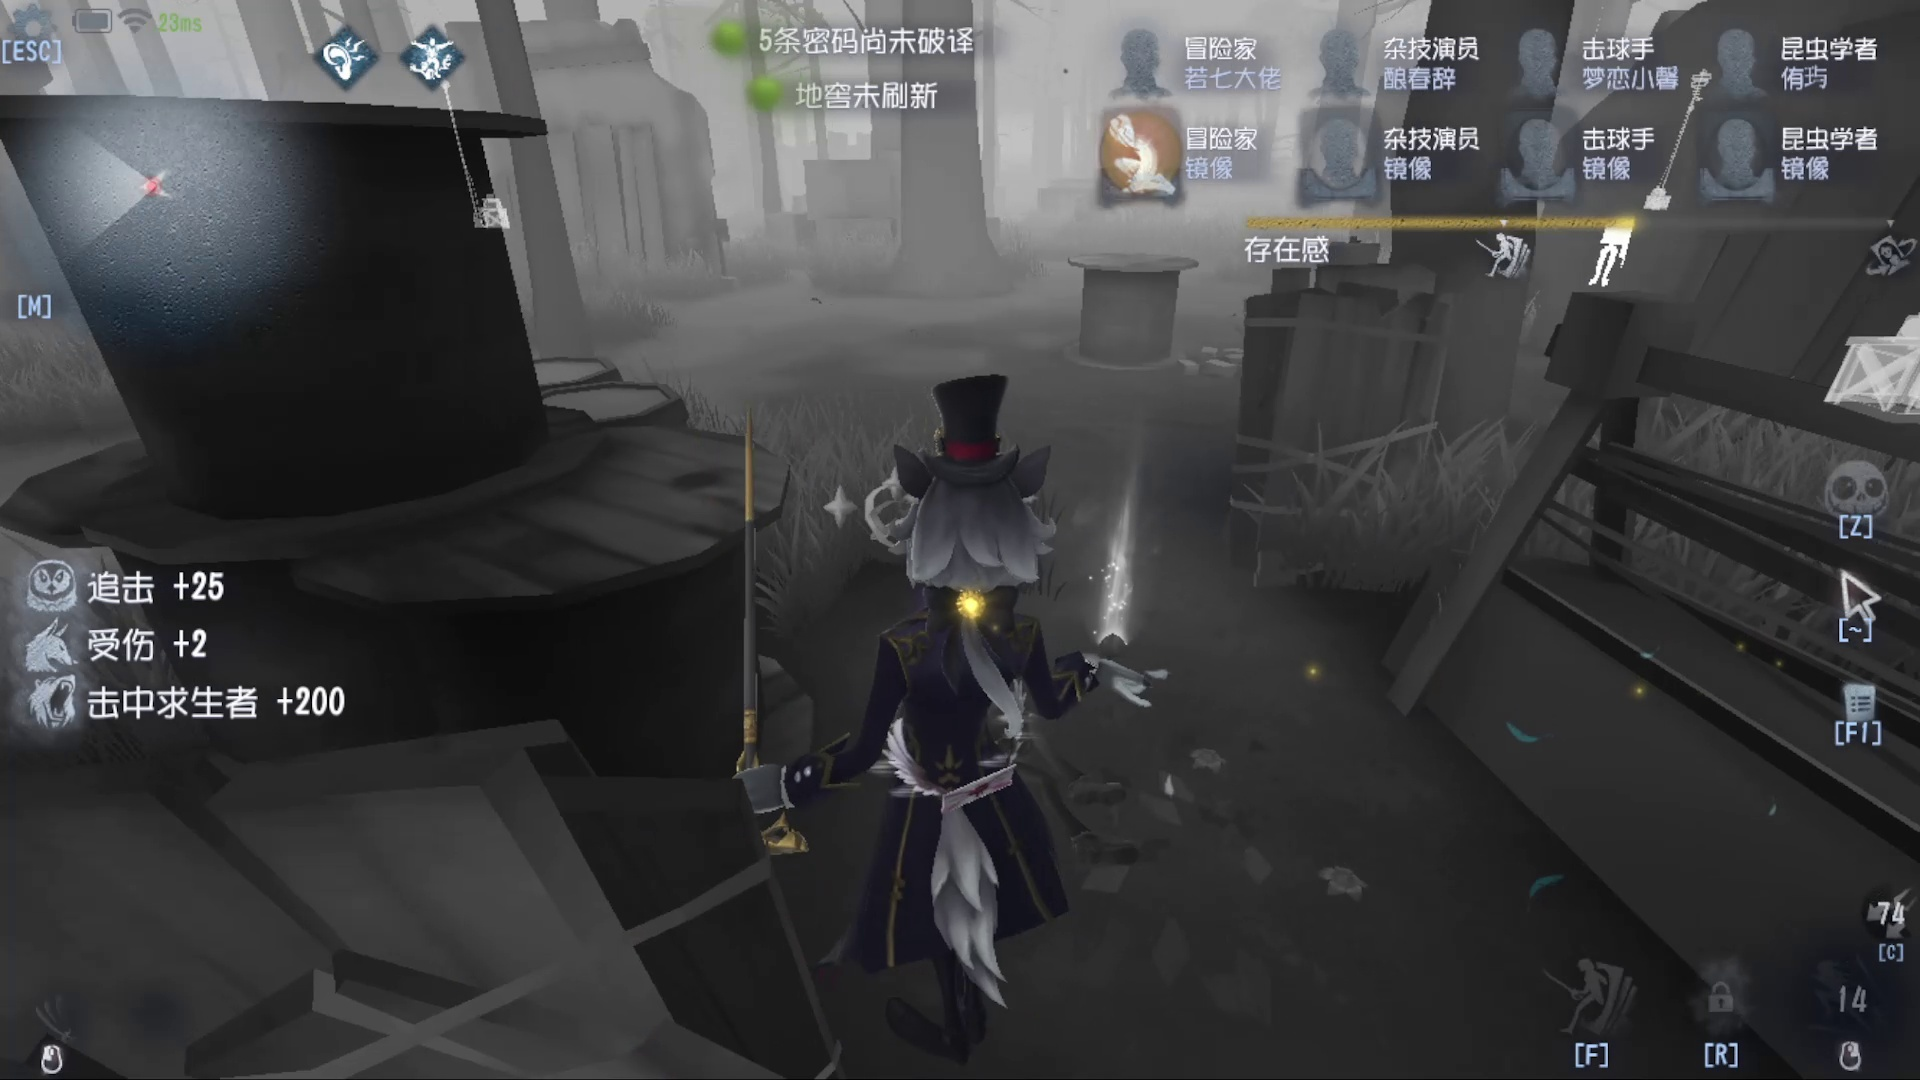密码机: (423, 46, 512, 244)
